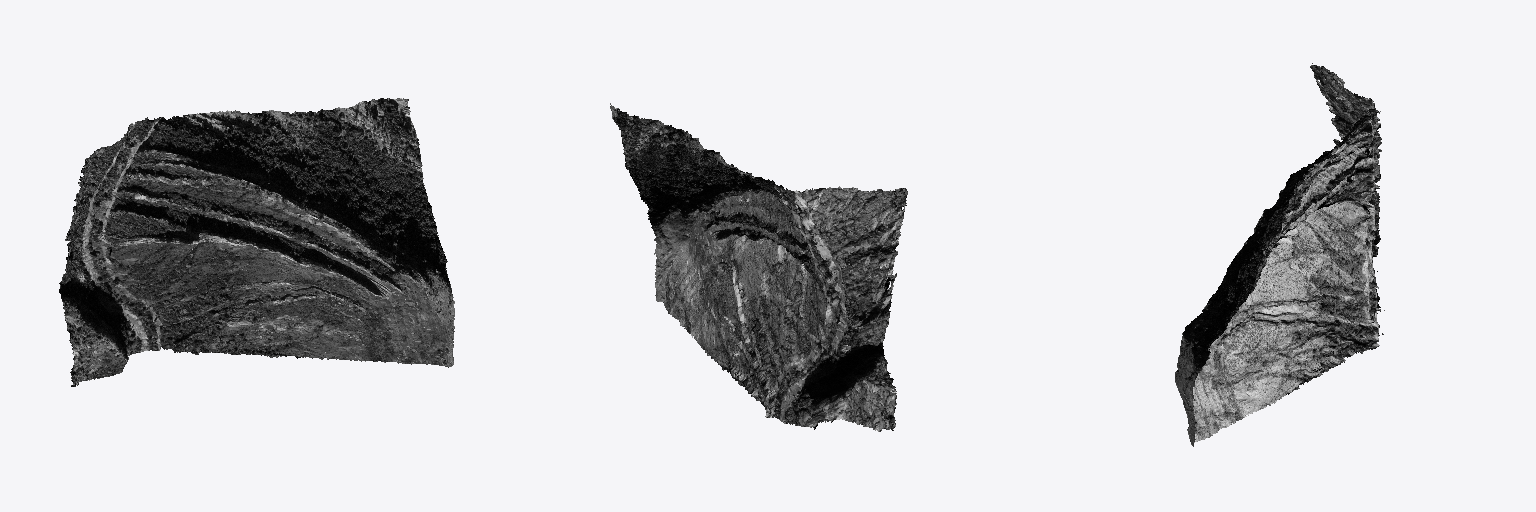
The picture shows the model from 3 angles: view 1: azimuth 30°, elevation 25°; view 2: azimuth 150°, elevation 25°; view 3: azimuth 270°, elevation 25°; orthographic projection.
Size of the model in its own units: 668 by 486 by 388.
Materials: 1 (1 with a texture image).